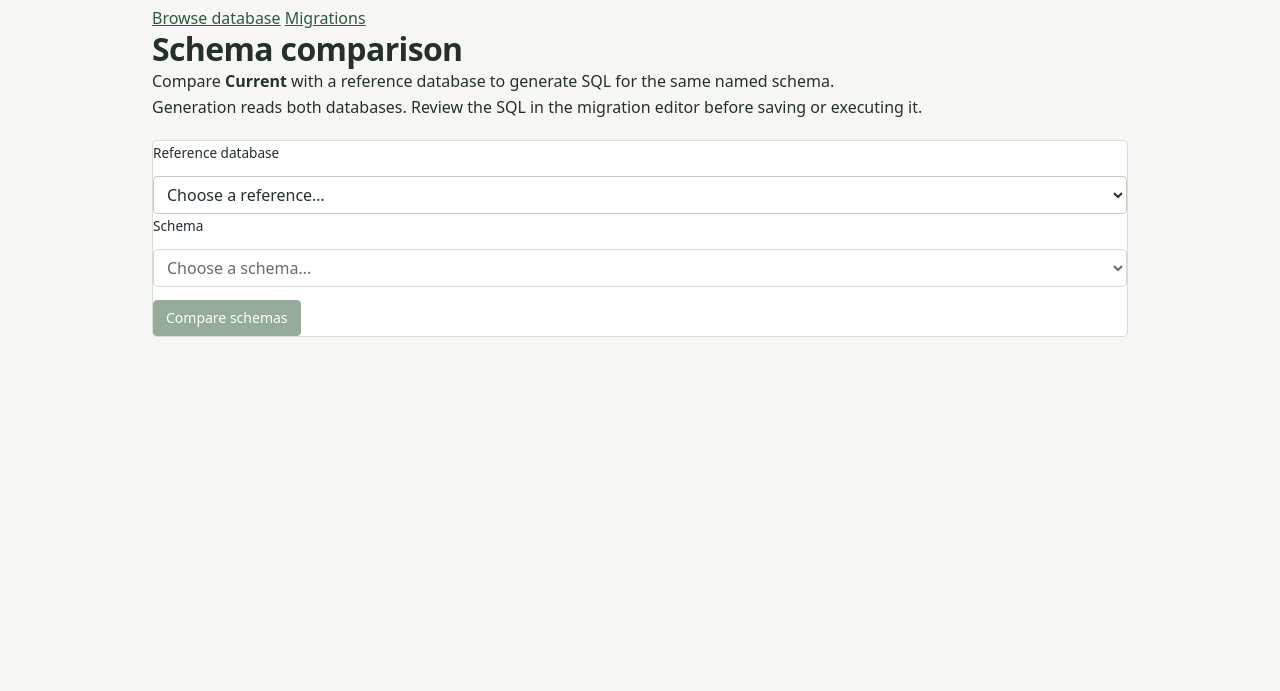
Test: reviews differences and imports editable SQL without saving or executing automatically
Select "Reference" in the dropdown labelled "Reference database": (640, 195) [153,176,1127,214]
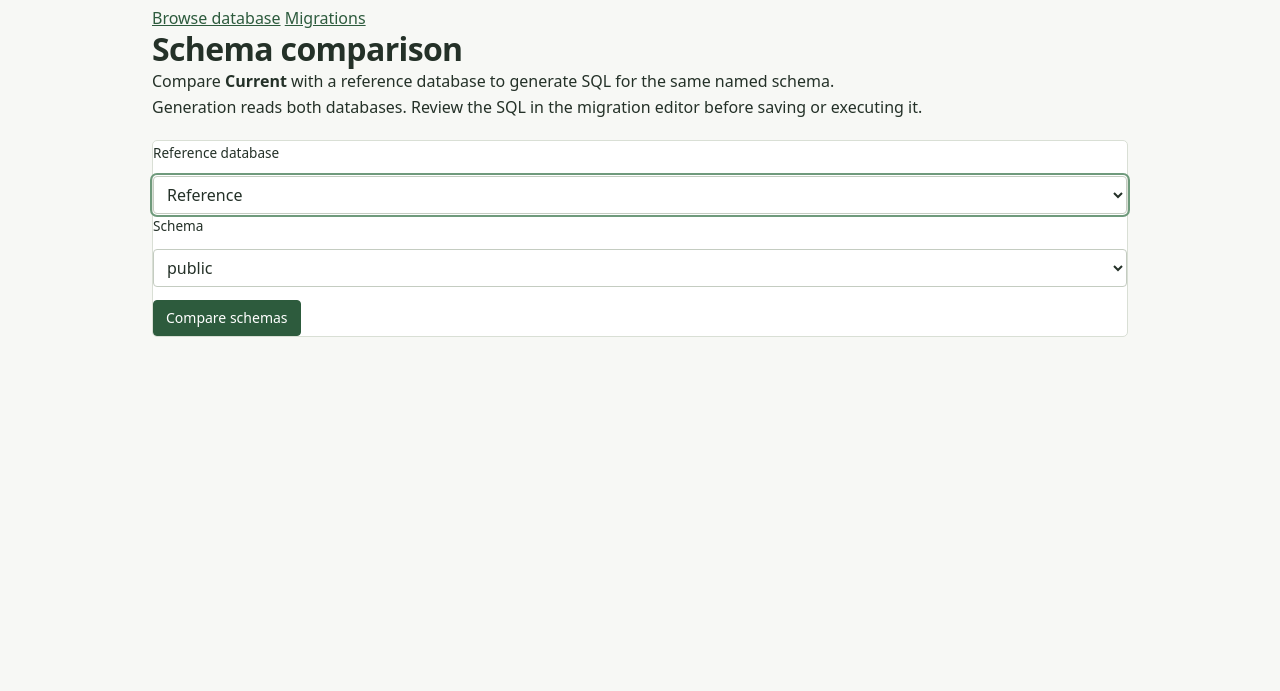
Click the button "Compare schemas": click(227, 318) [153,300,300,336]
(page scrolled)
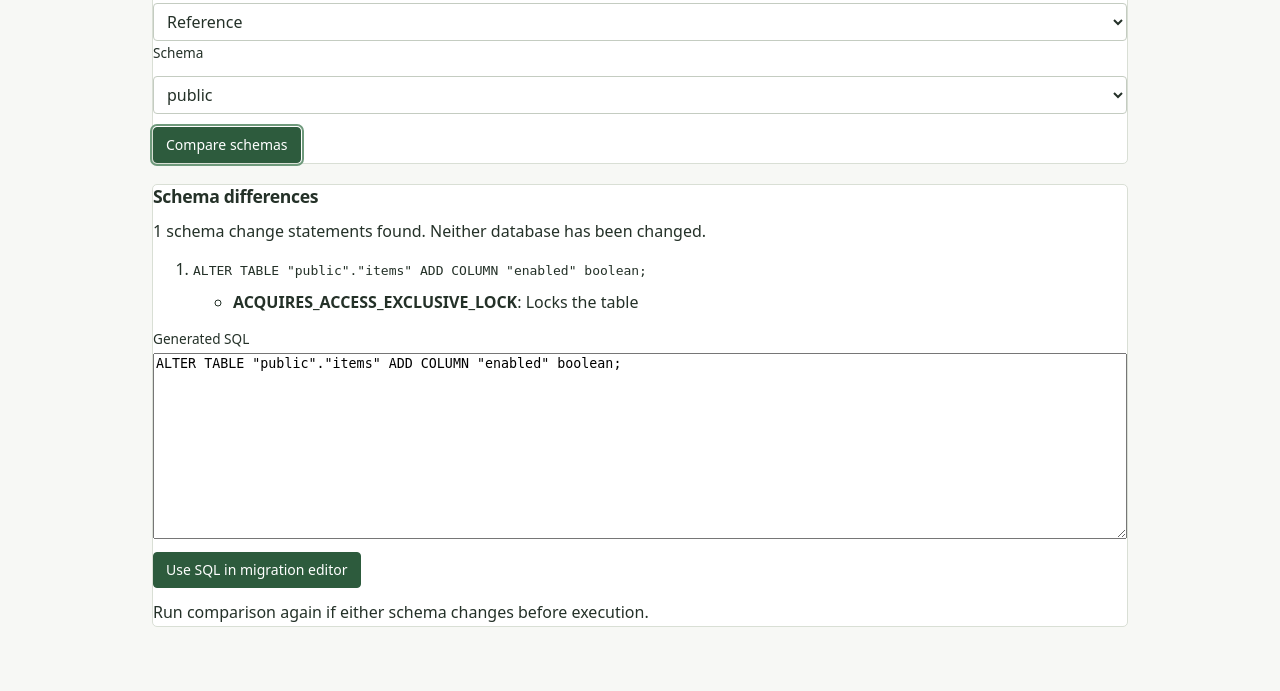
Expected: the list item "ACQUIRES_ACCESS_EXCLUSIVE_LOCK: Locks the table" is shown, [233,291,638,313]
Click the button "Use SQL in migration editor": click(257, 570) [153,552,360,588]
(page scrolled)
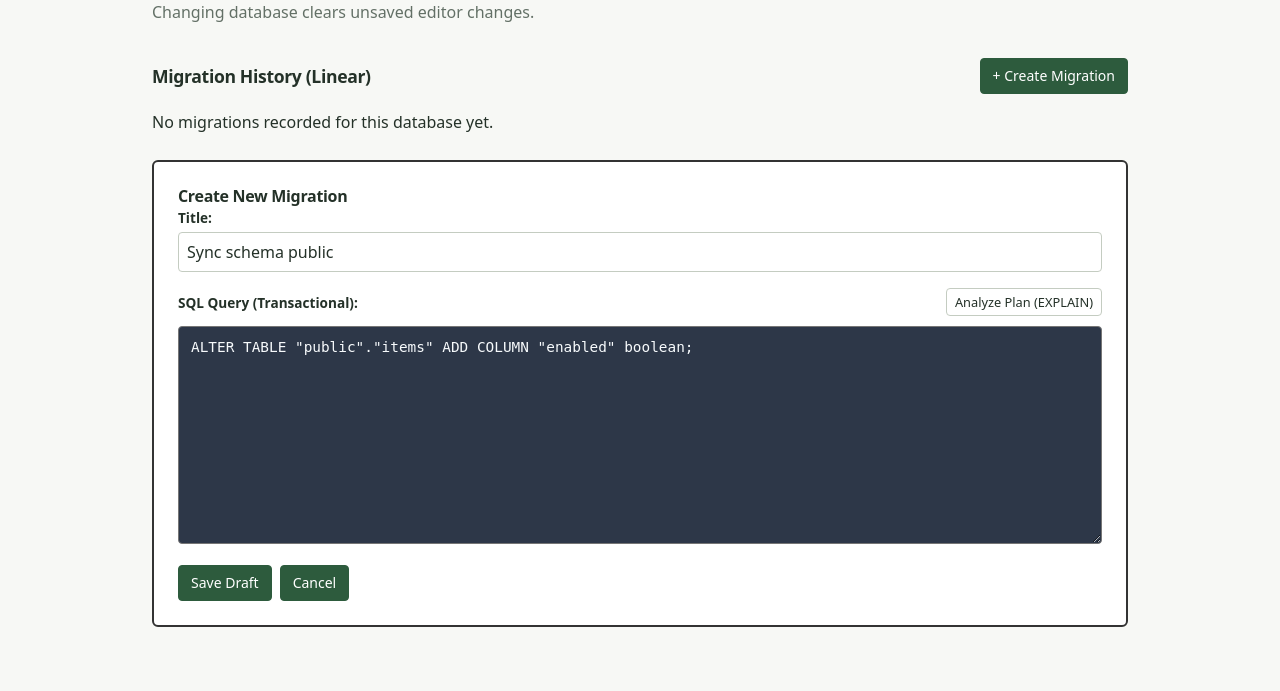
Replace the text in the text box labelled "SQL Query (Transactional):" with "SELECT 42;": (640, 435) [178,326,1102,544]
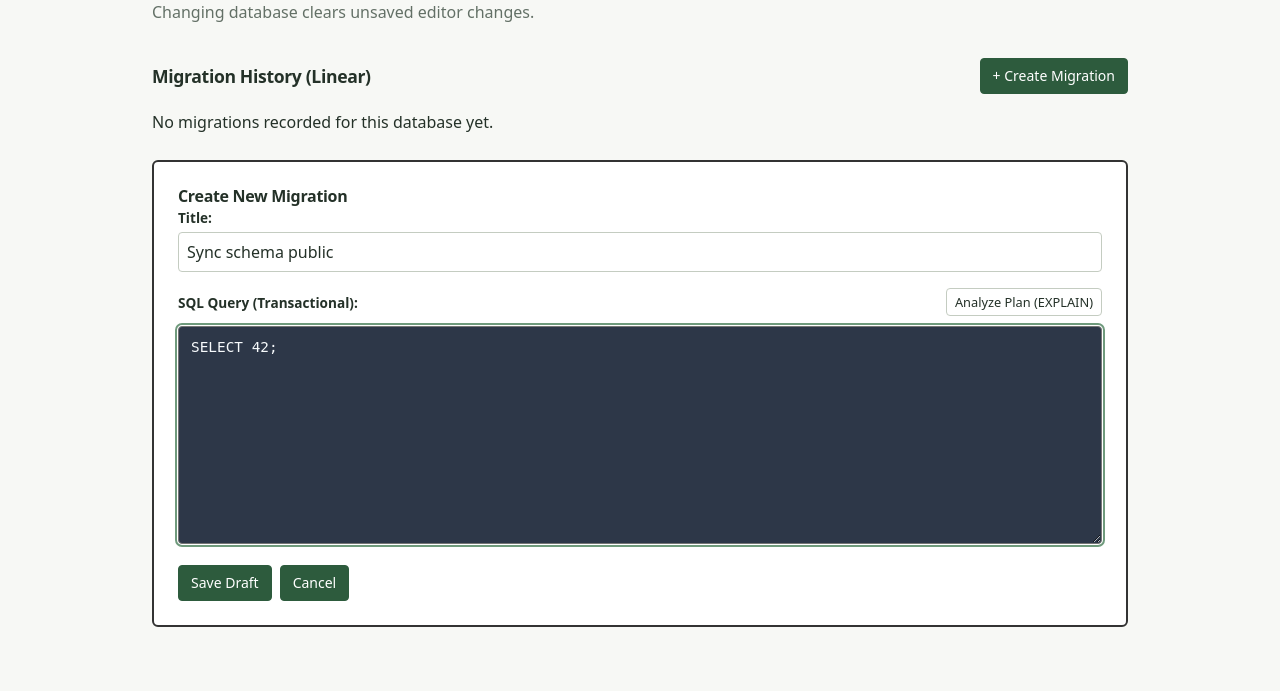
Click the button "Save Draft": click(225, 583) [178,565,272,601]
(page scrolled)
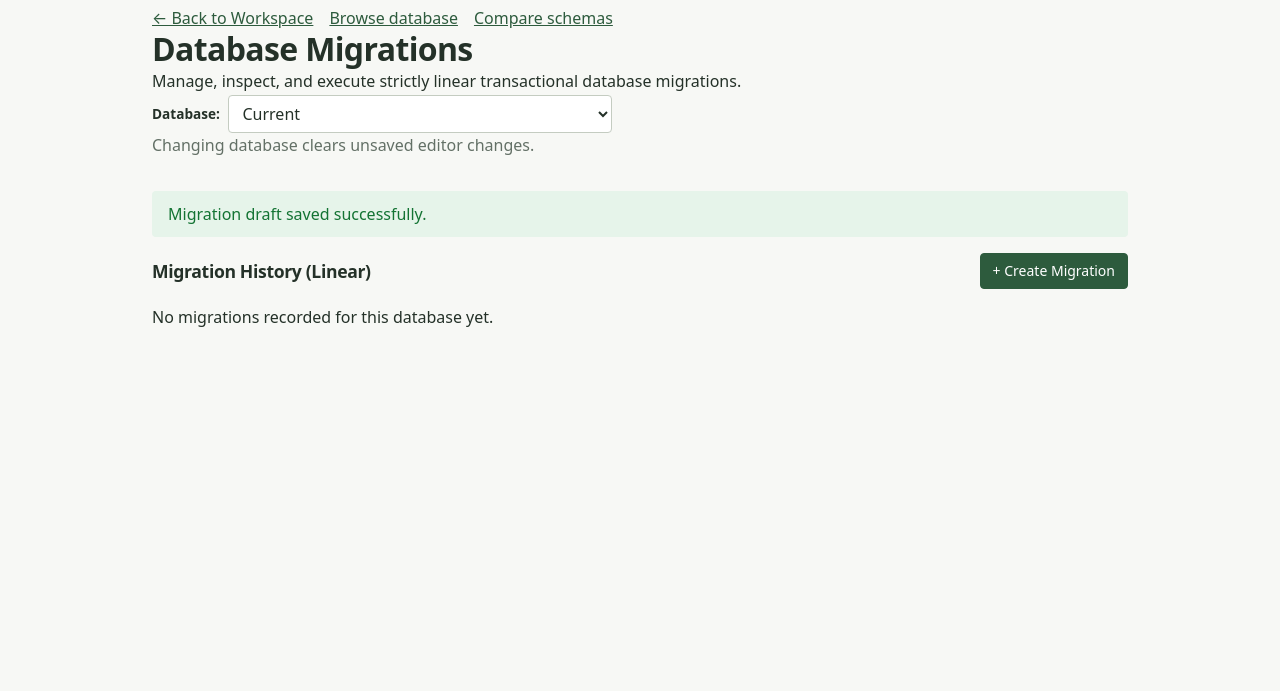
Expected: the text "Migration draft saved successfully." is shown, [152,191,1128,237]
